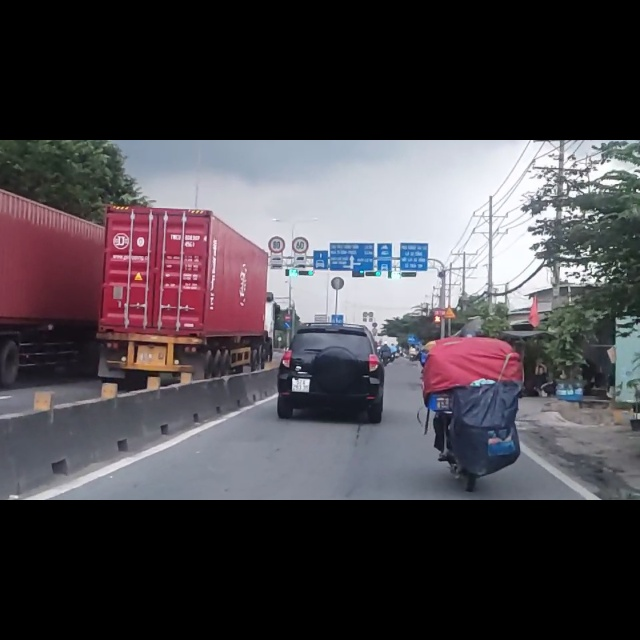bien_chi_dan: (268, 169, 286, 203), (291, 171, 309, 203), (283, 322, 291, 335), (284, 309, 291, 321)
